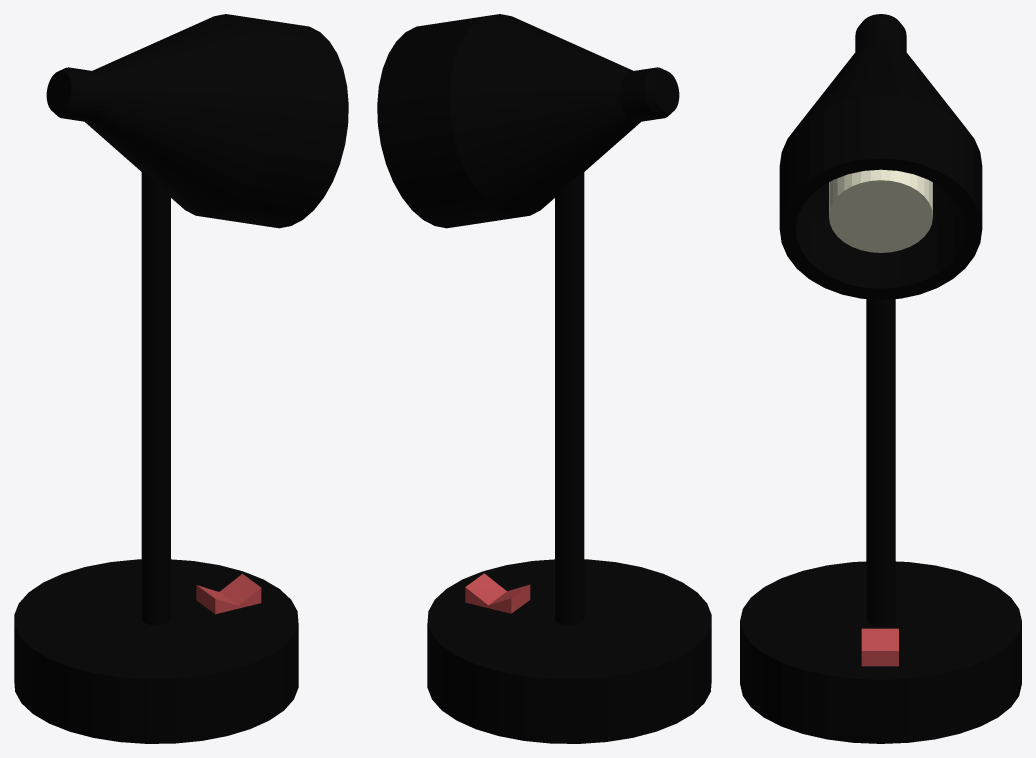
Rendered from Lamp.dae.
3 renders of one model, left to right at view 1: azimuth 30°, elevation 25°; view 2: azimuth 150°, elevation 25°; view 3: azimuth 270°, elevation 25°, orthographic.
Visible parts, largest first — view 1: Cube; view 2: Cube; view 3: Cube.
Part boxes in pixels (bbox=[...]): Cube: bbox=[14, 14, 348, 743]; Cube: bbox=[377, 14, 711, 743]; Cube: bbox=[740, 14, 1021, 743].
Size of the model in its own units: 6.29 by 5.41 by 13.42.
